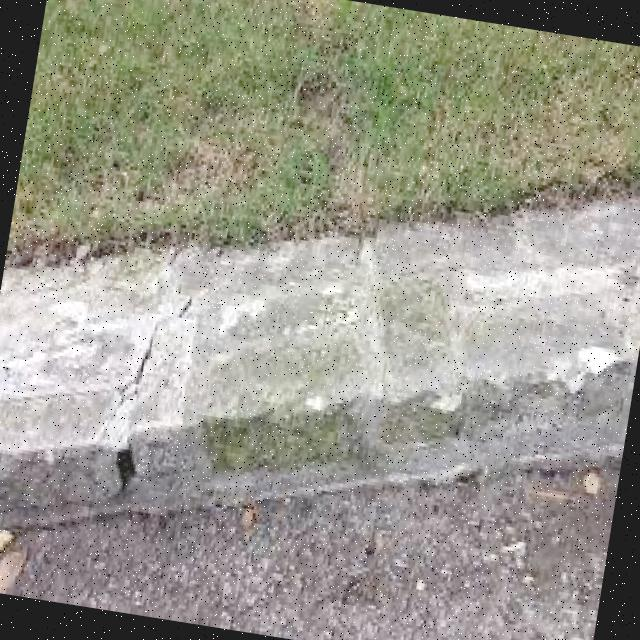curb: (177, 235, 534, 555), (1, 255, 311, 585), (345, 209, 640, 484)
